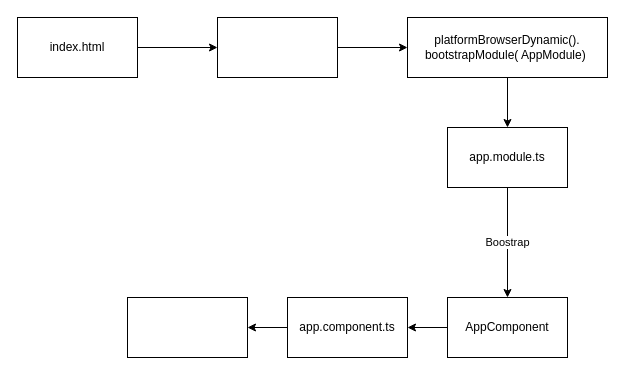
This 625x375 diagram has some shape labels left out. The centre of each missing label's shape, as x and y in pixels:
main.ts: pixel 277 47
selector: 'my-app': pixel 187 327
